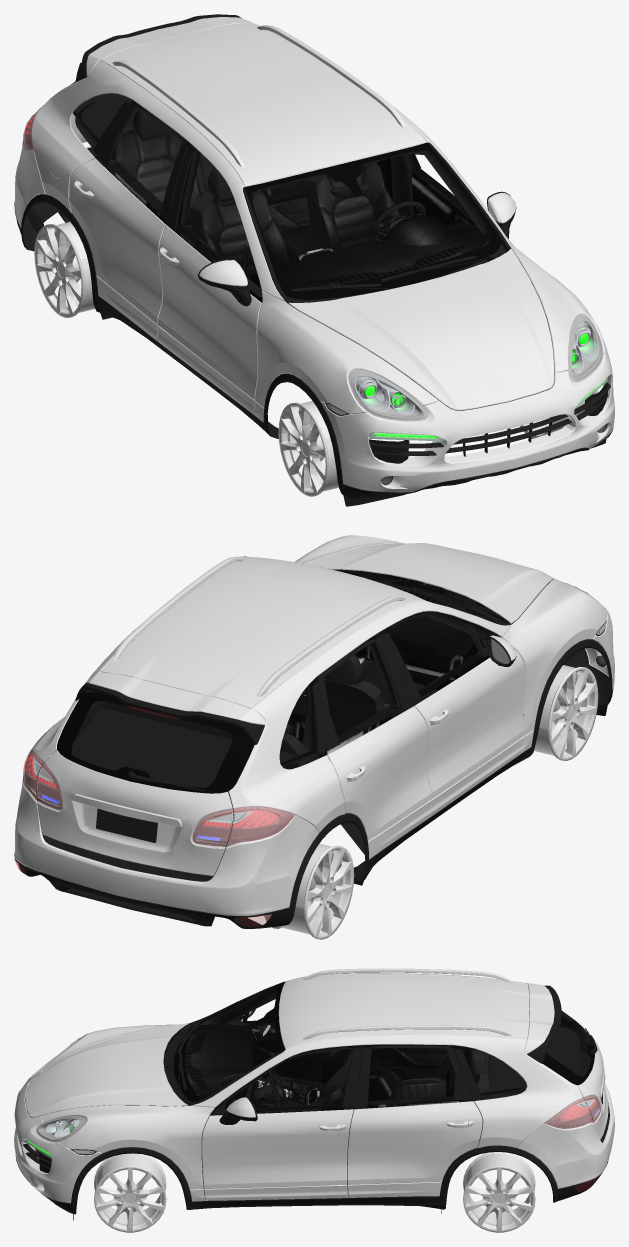
File: cayenne.glb
3 renders of one model, top to bottom at view 1: azimuth 30°, elevation 25°; view 2: azimuth 150°, elevation 25°; view 3: azimuth 270°, elevation 25°, orthographic. The views are drawn at different scales.
Visible parts, largest first — view 1: Cayenne:lod11, Cayenne:lod14, Cayenne:lod16, Cayenne:lod12, Cayenne:lod10, Cayenne:lod15; view 2: Cayenne:lod11, Cayenne:lod14, Cayenne:lod16, Cayenne:lod12, Cayenne:lod10, Cayenne:lod15, Cayenne:lod0, Cayenne:lod13; view 3: Cayenne:lod11, Cayenne:lod14, Cayenne:lod16, Cayenne:lod12, Cayenne:lod10, Cayenne:lod15, Cayenne:lod0.
Boxes of the visible parts, left/top/right/bottom form: Cayenne:lod11: left=14, top=17, right=614, bottom=492; Cayenne:lod14: left=69, top=93, right=554, bottom=410; Cayenne:lod16: left=15, top=14, right=612, bottom=506; Cayenne:lod12: left=34, top=222, right=597, bottom=496; Cayenne:lod10: left=23, top=111, right=607, bottom=484; Cayenne:lod15: left=71, top=81, right=501, bottom=300; Cayenne:lod11: left=14, top=535, right=614, bottom=915; Cayenne:lod14: left=36, top=569, right=553, bottom=881; Cayenne:lod16: left=14, top=556, right=613, bottom=928; Cayenne:lod12: left=264, top=665, right=598, bottom=939; Cayenne:lod10: left=23, top=585, right=606, bottom=846; Cayenne:lod15: left=57, top=568, right=509, bottom=793; Cayenne:lod0: left=14, top=706, right=294, bottom=926; Cayenne:lod13: left=96, top=808, right=157, bottom=842; Cayenne:lod11: left=14, top=968, right=614, bottom=1203; Cayenne:lod14: left=25, top=985, right=609, bottom=1200; Cayenne:lod16: left=15, top=981, right=608, bottom=1220; Cayenne:lod12: left=94, top=1152, right=535, bottom=1232; Cayenne:lod10: left=24, top=1035, right=600, bottom=1158; Cayenne:lod15: left=173, top=982, right=594, bottom=1102; Cayenne:lod0: left=545, top=1096, right=600, bottom=1191.
Size of what is drawn, in the model's own units: 0.023 by 0.0171 by 0.0505.
9 materials, 4 textured.
